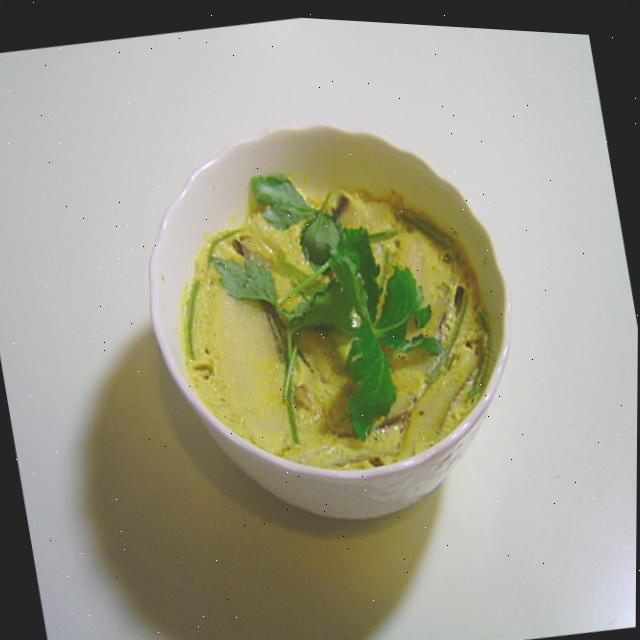鸡蛋料理: (99, 36, 561, 566)
